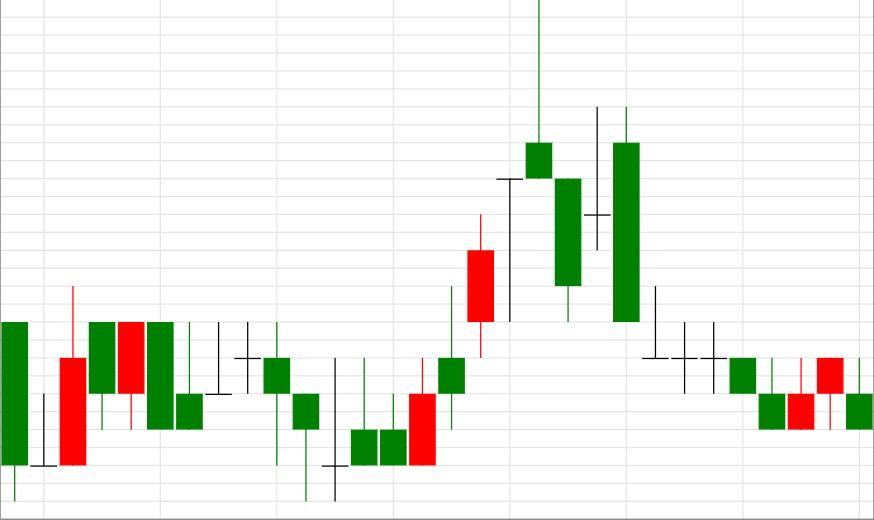bullish_engulfing_rise: (235, 322, 437, 501)
shooting_star_fall: (322, 0, 553, 502)
